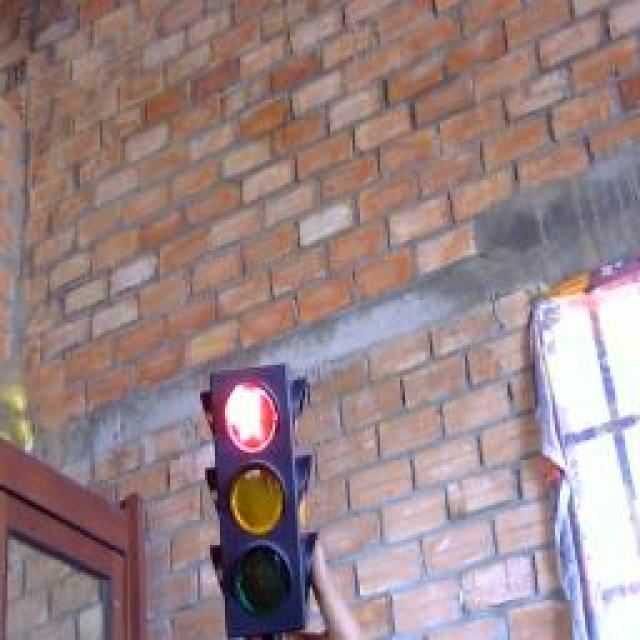-: (219, 376, 289, 461)
